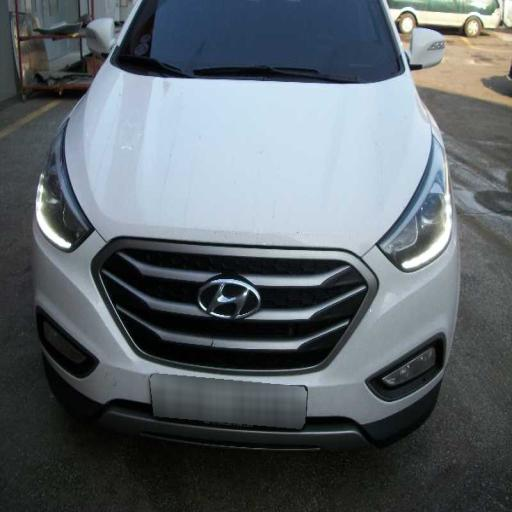dent: (96, 72, 423, 262)
